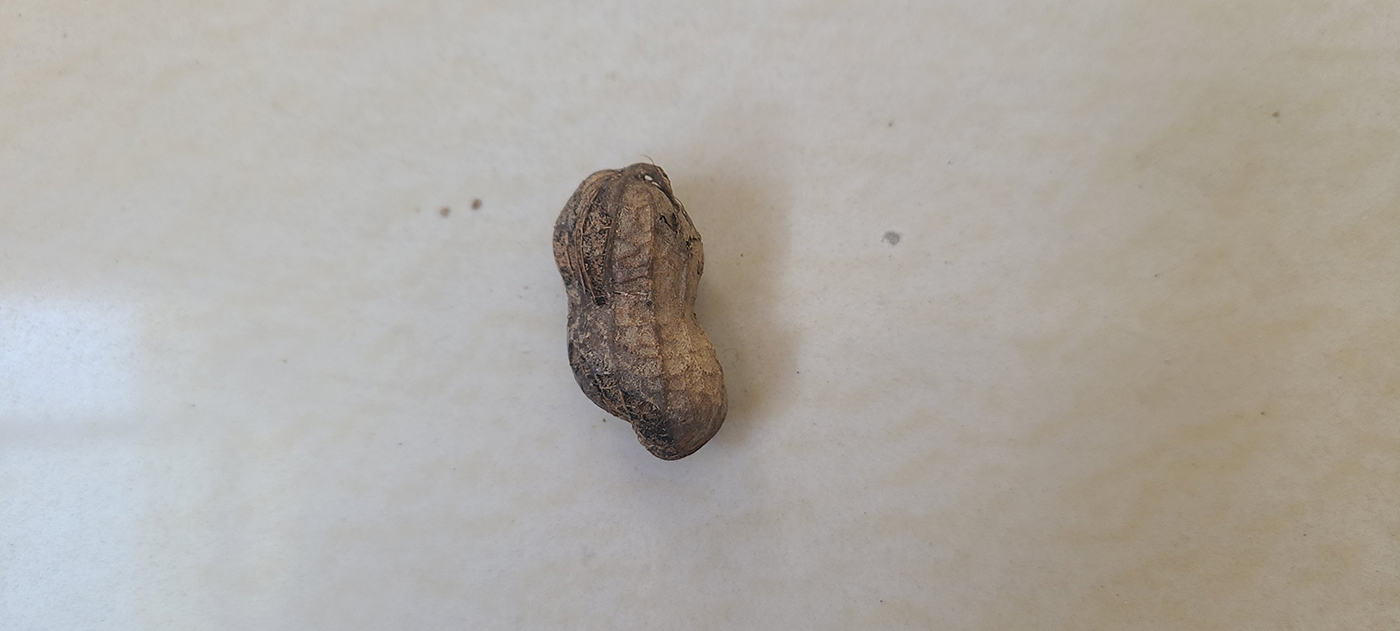l: (550, 163, 730, 462)
